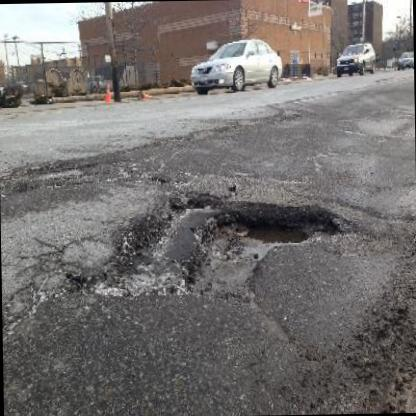pothole: (92, 188, 341, 299), (28, 160, 96, 190)
